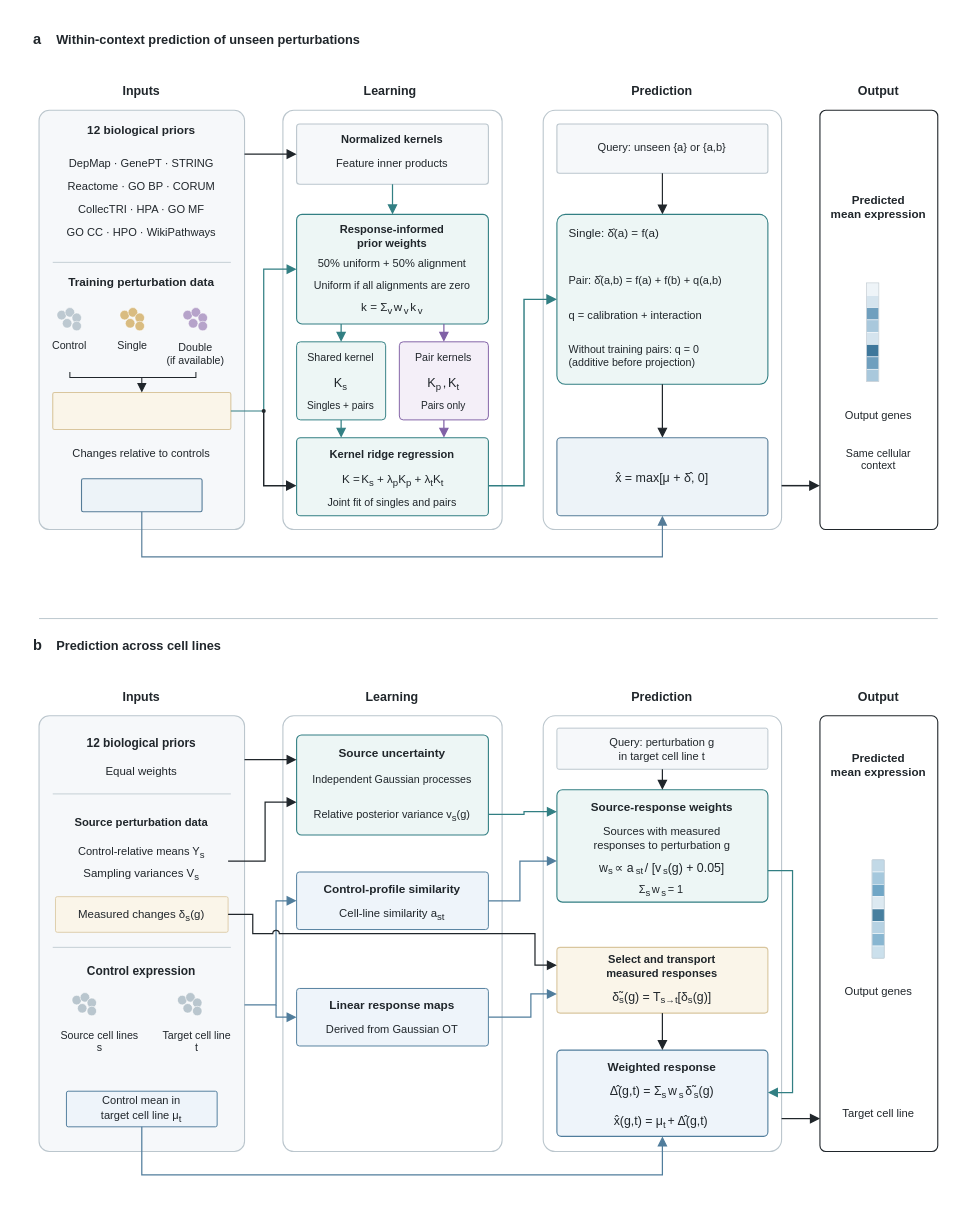
This 977x1223 diagram has some shape labels left out. The box of each missing label's shape, as (x1, y1, x2, y2) in pixels:
Control mean μ: (80, 478, 202, 512)
Mean response matrix Y: (52, 391, 231, 429)
